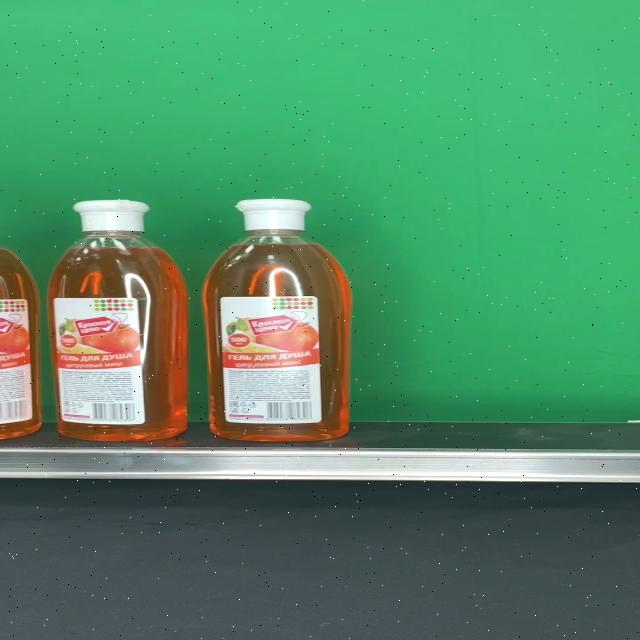Bottle: (203, 198, 353, 442), (47, 200, 187, 441)
Cap: (72, 200, 150, 232), (235, 198, 311, 230)
